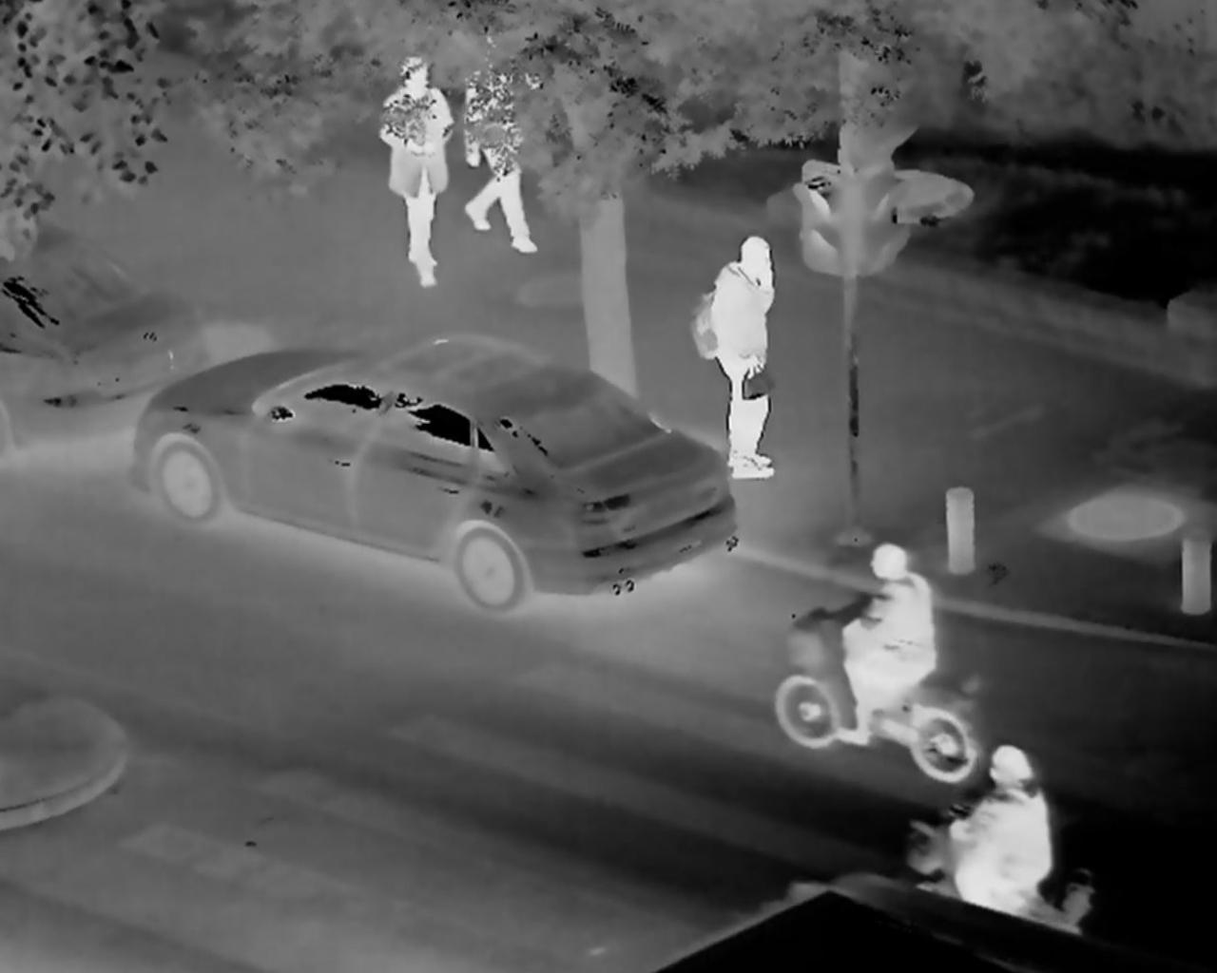person: (692, 232, 782, 476), (941, 742, 1055, 930), (842, 542, 940, 747), (372, 59, 453, 288), (463, 42, 541, 255)
